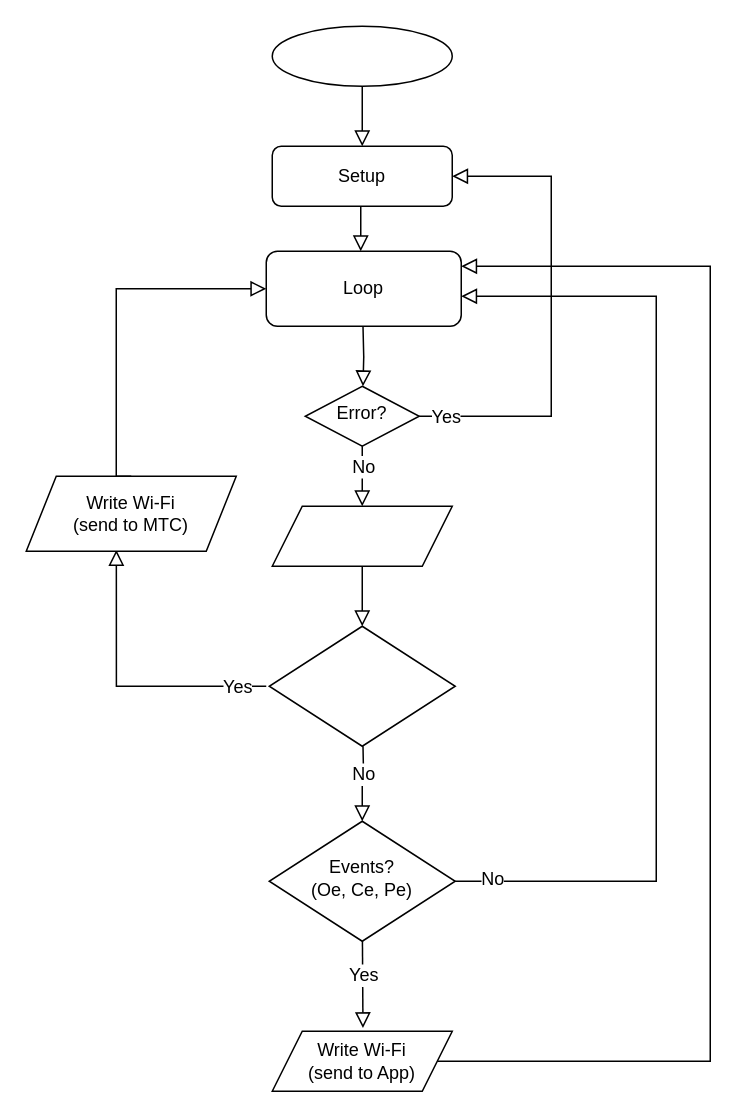
Some shapes in this 752 by 1118 pixel diagram are drawn without their labels. The shapes that lost their labels are listed below. From the top down, each one's box as (x1, y1, x2, y2) in pixels, then its label:
(271, 25, 452, 86): Start
(271, 505, 452, 566): Read Wi-Fi
(268, 625, 455, 746): Requests? (Or, Cr, Pr)
